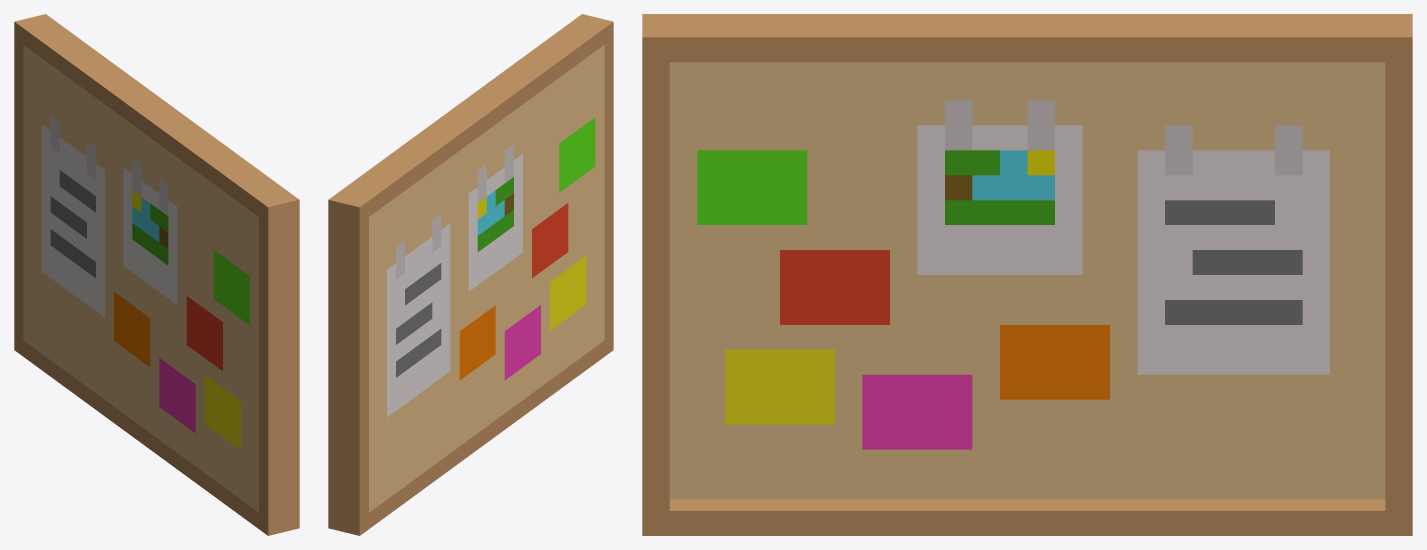
Rendered from annotationBoard.gltf.
3 renders of one model, left to right at view 1: azimuth 30°, elevation 25°; view 2: azimuth 150°, elevation 25°; view 3: azimuth 270°, elevation 25°, orthographic. The views are drawn at different scales.
Bounding box in the file's own units: 2 × 20 × 28.
Materials: 1 (1 with a texture image).
